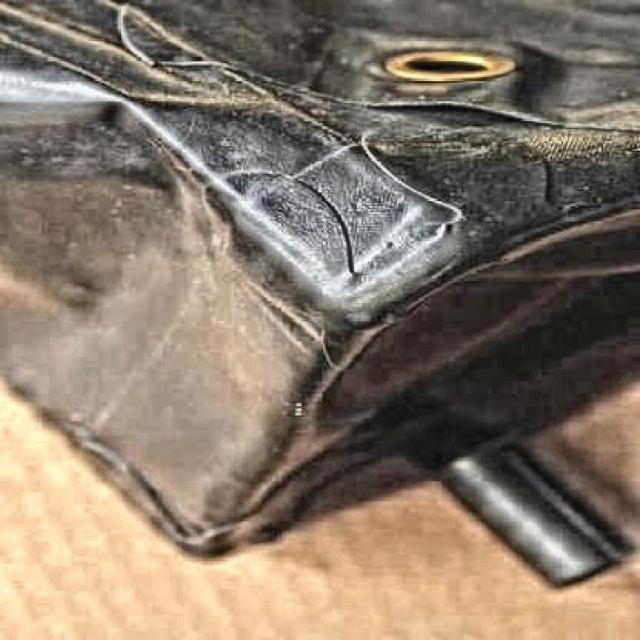crack: (307, 192, 412, 320)
